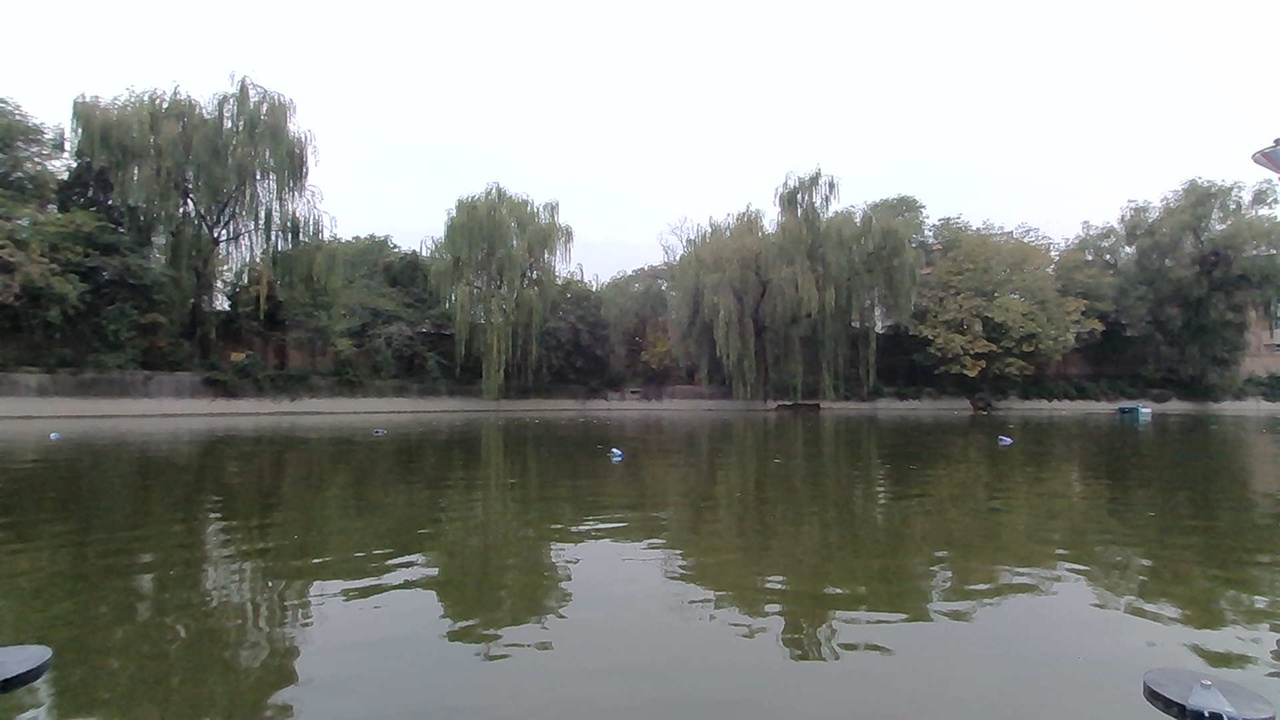bottle: (592, 439, 637, 466), (40, 422, 76, 454), (368, 417, 401, 440), (987, 427, 1018, 451)
